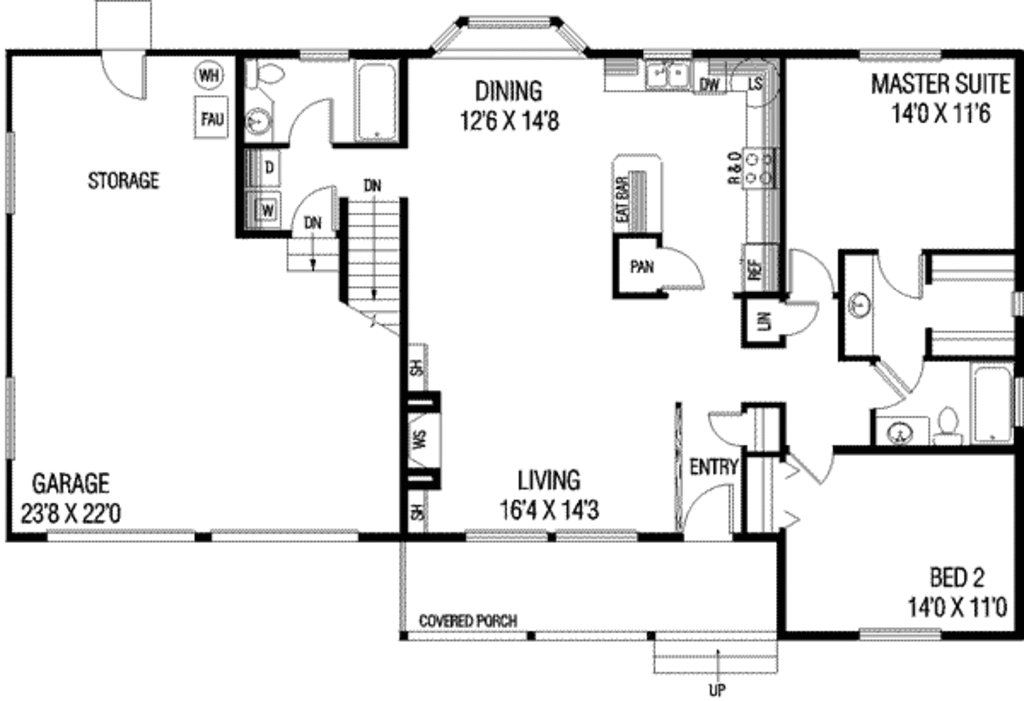door: (687, 469, 741, 549), (279, 178, 341, 239), (286, 89, 338, 154), (785, 436, 843, 493), (648, 241, 705, 293), (785, 243, 837, 299), (100, 48, 153, 101), (878, 246, 924, 302), (702, 399, 753, 448), (881, 342, 928, 395), (864, 352, 906, 411), (774, 298, 823, 345)
large_sink: (243, 55, 290, 91), (932, 403, 965, 444)
small_sink: (874, 411, 939, 449), (242, 85, 278, 145)
stairs: (341, 188, 413, 340), (650, 628, 787, 698), (286, 230, 346, 283)
tub: (353, 52, 407, 140), (971, 360, 1018, 444)
twin_sink: (647, 54, 694, 96)
window: (206, 522, 366, 548), (455, 8, 556, 36), (551, 517, 638, 547), (457, 520, 553, 546), (855, 622, 943, 646), (851, 45, 947, 66), (1, 130, 21, 221), (1, 366, 18, 464), (427, 13, 463, 56), (558, 21, 591, 59), (1011, 280, 1024, 316)
